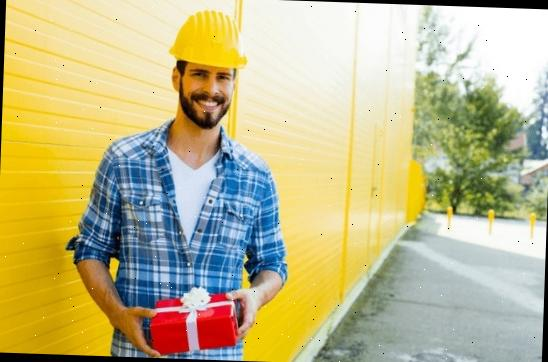helmet: (167, 8, 249, 74)
no_wear: (111, 137, 260, 360)
